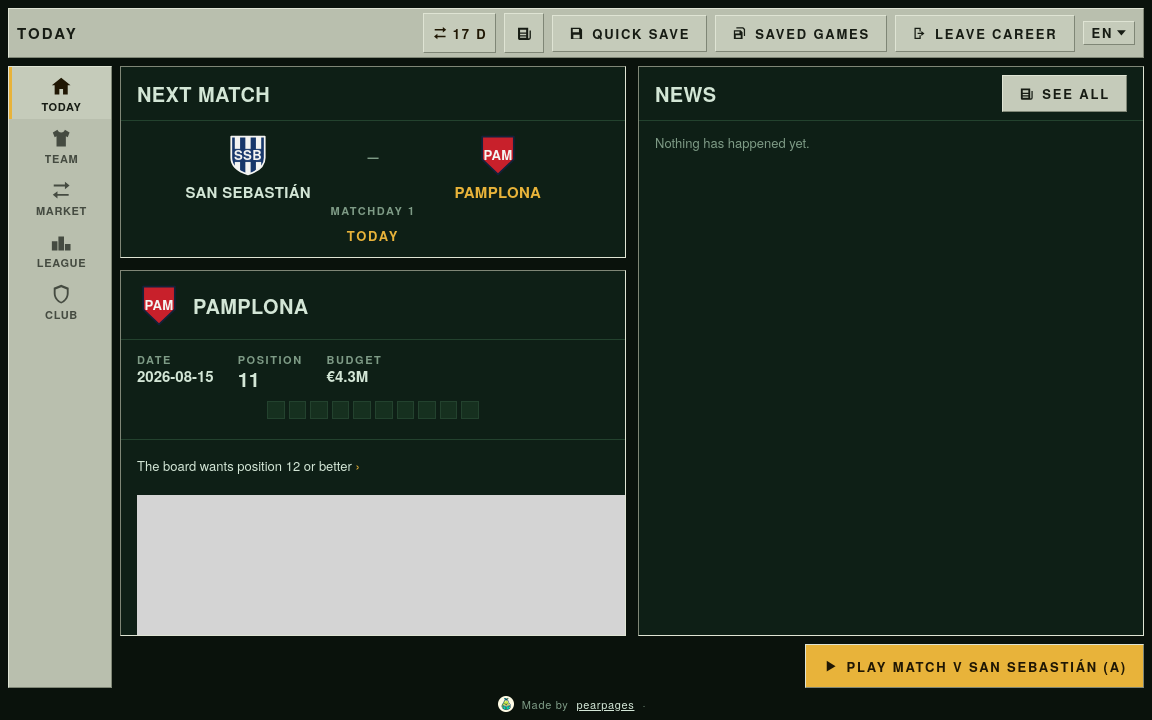
Test: the radar › draws one shape with an axis per attribute
This screenshot has width=1152, height=720.
Click the button "Team" at (60,145), box top-left (9, 119), bottom-right (111, 171)
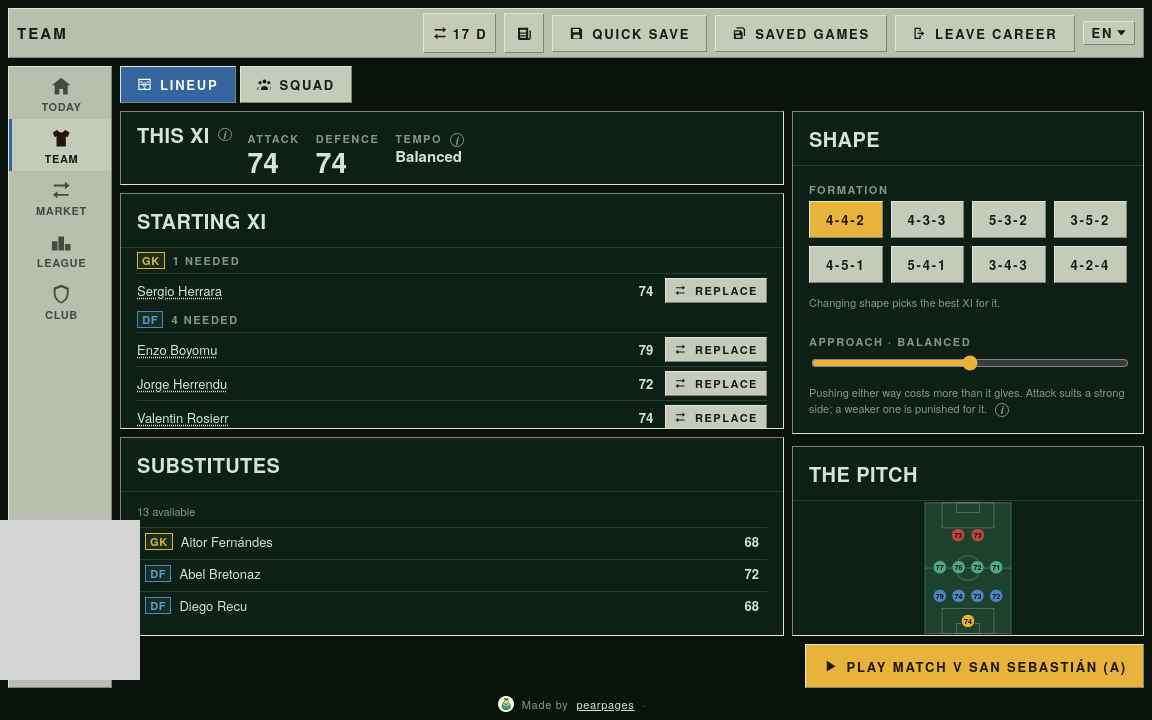
Click the button "Squad" at (296,84), box top-left (240, 66), bottom-right (352, 103)
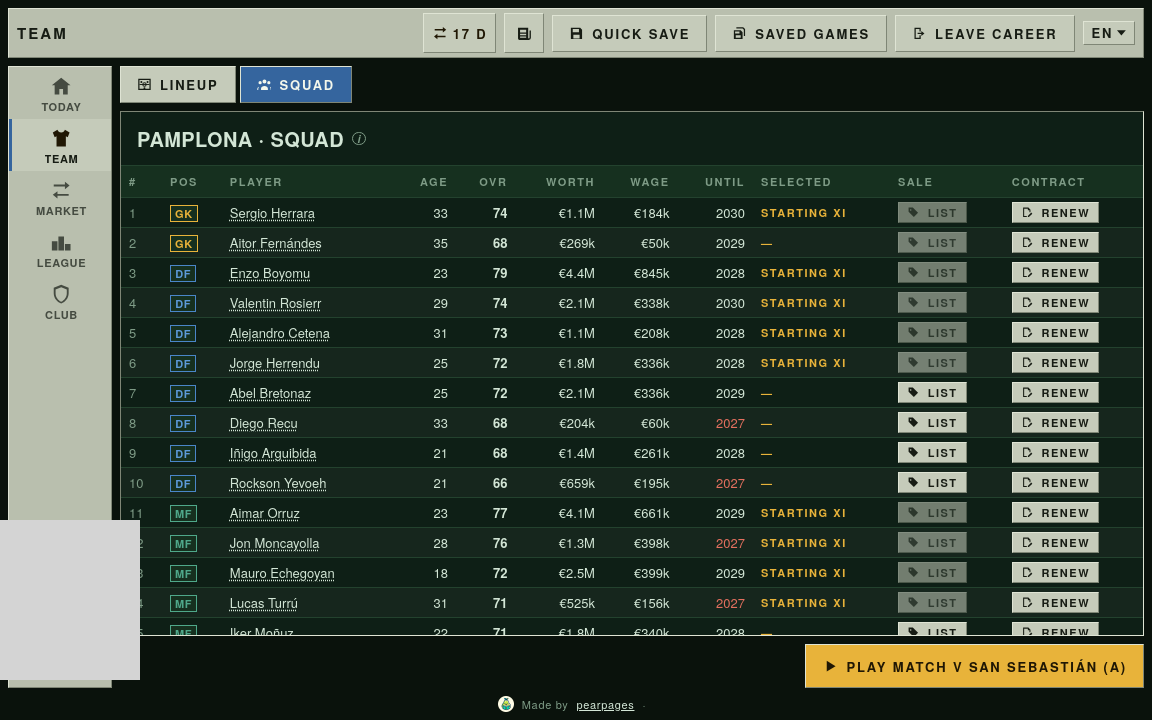
Click the button "Aimar Orruz" at (265,512), box top-left (230, 503), bottom-right (300, 522)
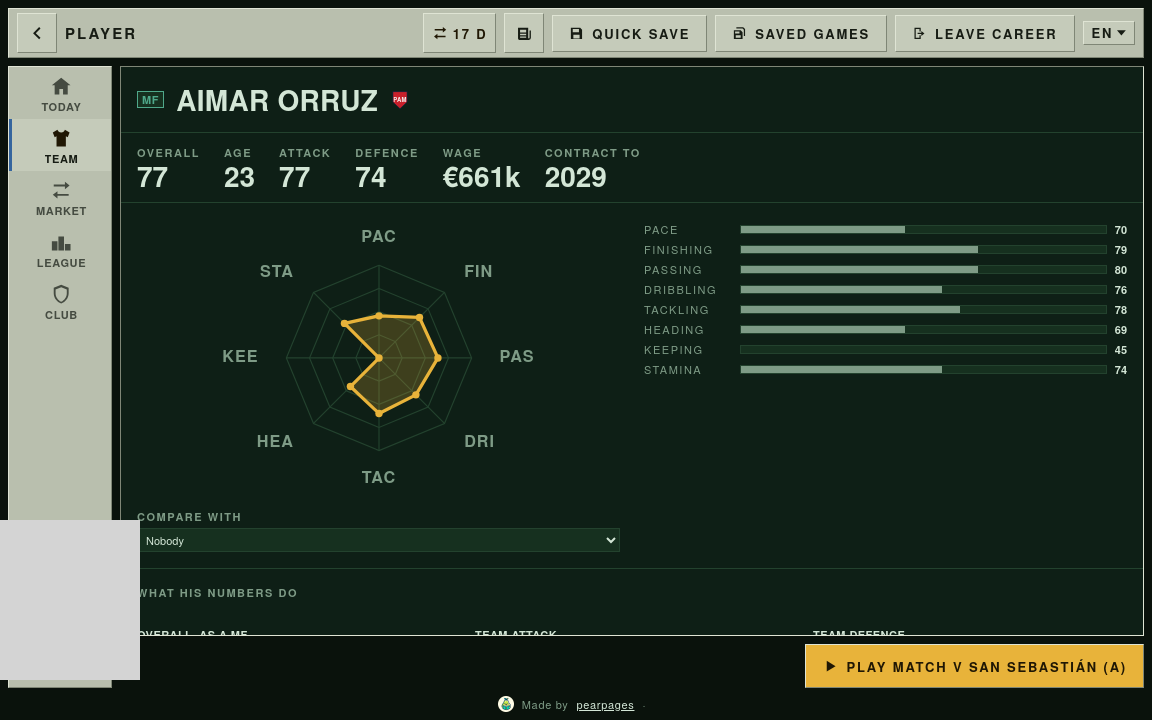
Expected: the picture named "Aimar Orruz" is shown, top-left (202, 219), bottom-right (554, 497)
